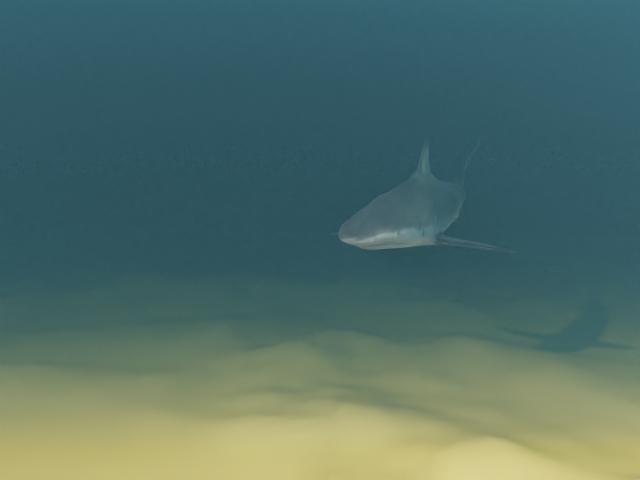Carribean Shark.001: (329, 135, 518, 252)
